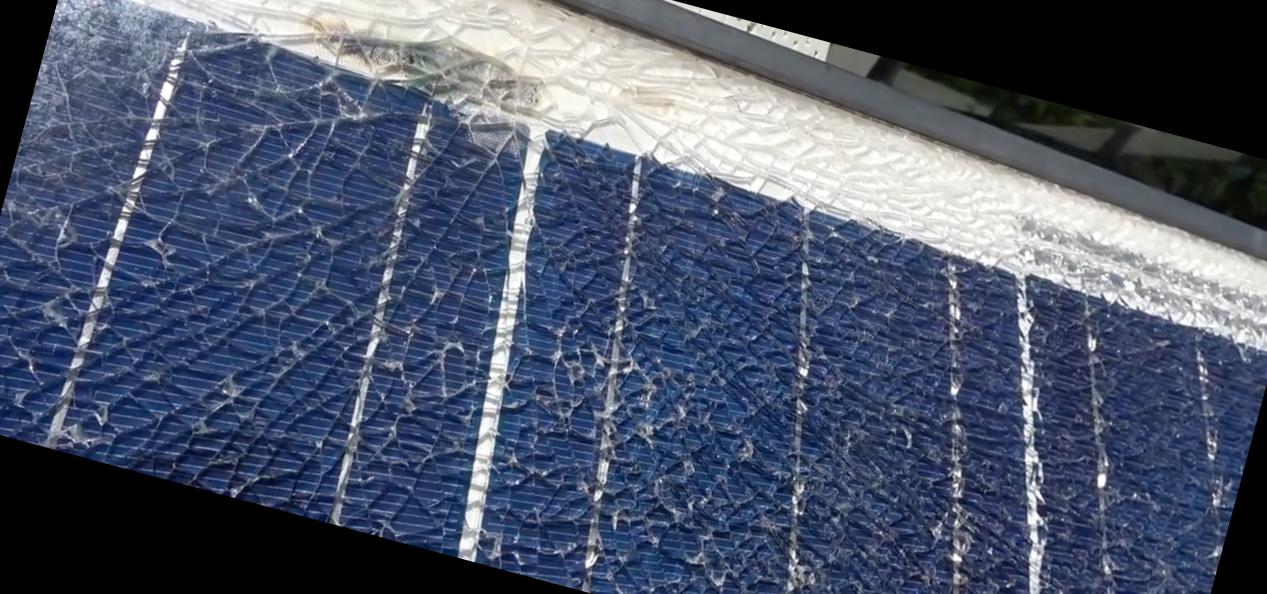Crack: (362, 268, 1238, 593), (145, 0, 821, 339)
